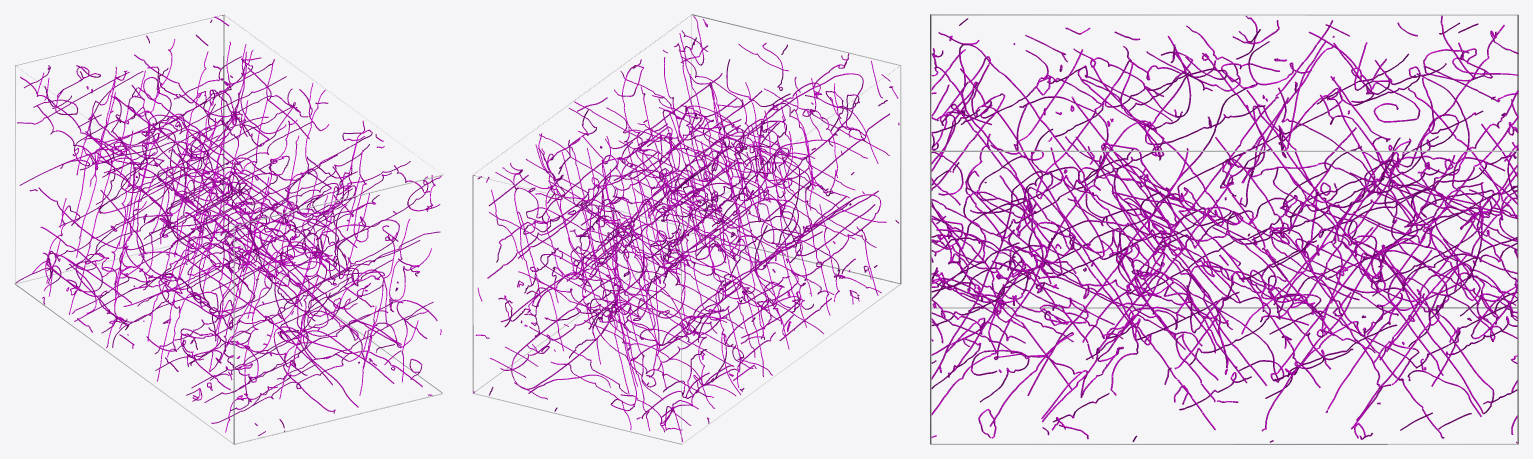
3 renders of one model, left to right at view 1: azimuth 30°, elevation 25°; view 2: azimuth 150°, elevation 25°; view 3: azimuth 270°, elevation 25°, orthographic. The views are drawn at different scales.
Parts seen in each view (by area): view 1: Shape_IndexedLineSet.001, Shape_IndexedLineSet; view 2: Shape_IndexedLineSet.001, Shape_IndexedLineSet; view 3: Shape_IndexedLineSet.001, Shape_IndexedLineSet.
Boxes of the visible parts, <box> form: Shape_IndexedLineSet.001: <box>15,15,441,435</box>; Shape_IndexedLineSet: <box>15,14,443,444</box>; Shape_IndexedLineSet.001: <box>473,15,899,441</box>; Shape_IndexedLineSet: <box>472,14,901,444</box>; Shape_IndexedLineSet.001: <box>931,15,1518,443</box>; Shape_IndexedLineSet: <box>930,14,1518,444</box>.
Size of the model in its own units: 241 by 241 by 437.
